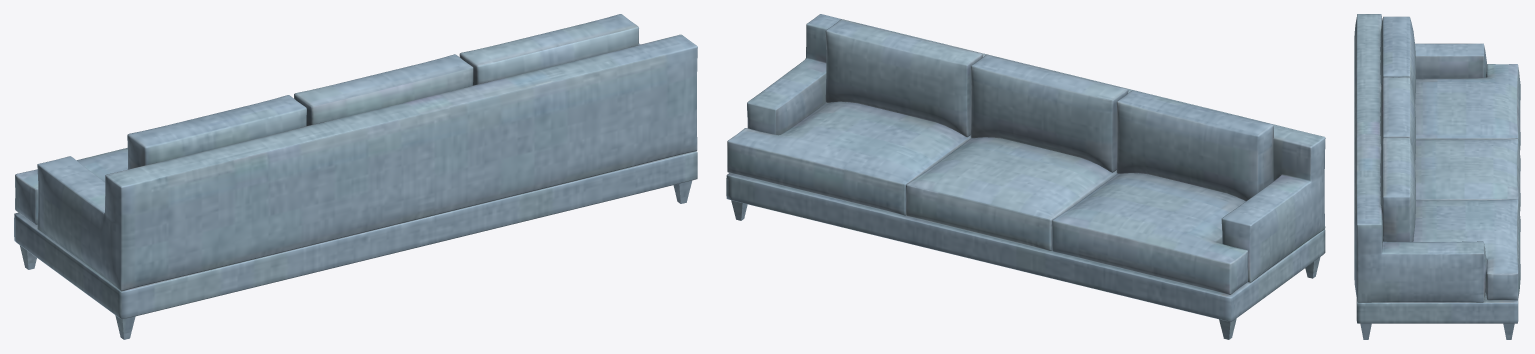
Rendered from Sofa33.glb.
The picture shows the model from 3 angles, left to right: view 1: azimuth 30°, elevation 25°; view 2: azimuth 150°, elevation 25°; view 3: azimuth 270°, elevation 25°; orthographic projection. The views are drawn at different scales.
Visible parts, largest first — view 1: Sofa33_model; view 2: Sofa33_model; view 3: Sofa33_model.
Part boxes in pixels (x1,y1,x2,y2): Sofa33_model: [14, 14, 697, 339]; Sofa33_model: [726, 14, 1325, 339]; Sofa33_model: [1354, 14, 1520, 339].
Size of the model in its own units: 6.29 by 1.83 by 2.08.
Materials: 1 (1 with a texture image).
